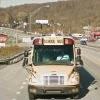Bus: (22, 30, 86, 97)
